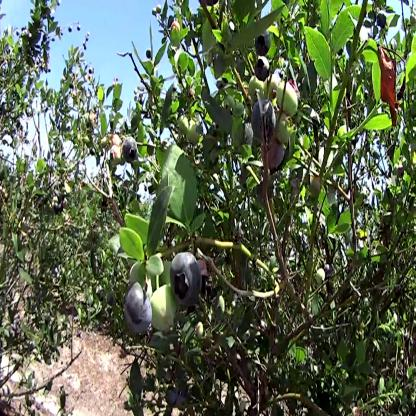intermediate: (109, 135, 122, 166), (172, 21, 182, 32)
mature: (171, 254, 202, 306), (122, 289, 153, 334), (251, 103, 277, 144), (256, 33, 272, 80), (167, 390, 186, 411), (123, 136, 138, 160), (325, 263, 333, 280)
young: (149, 285, 178, 332), (279, 78, 300, 116), (250, 77, 279, 103), (178, 116, 200, 143), (316, 268, 326, 286), (196, 322, 204, 340), (152, 7, 162, 15)
